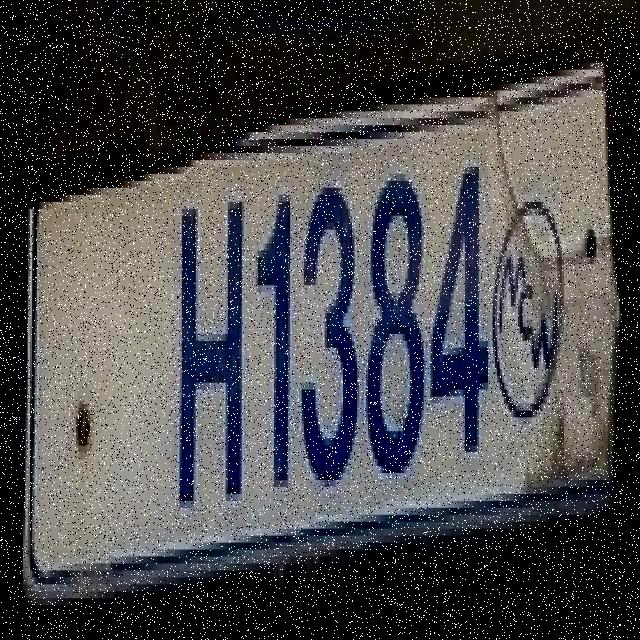licenseplate: (11, 32, 624, 546)
